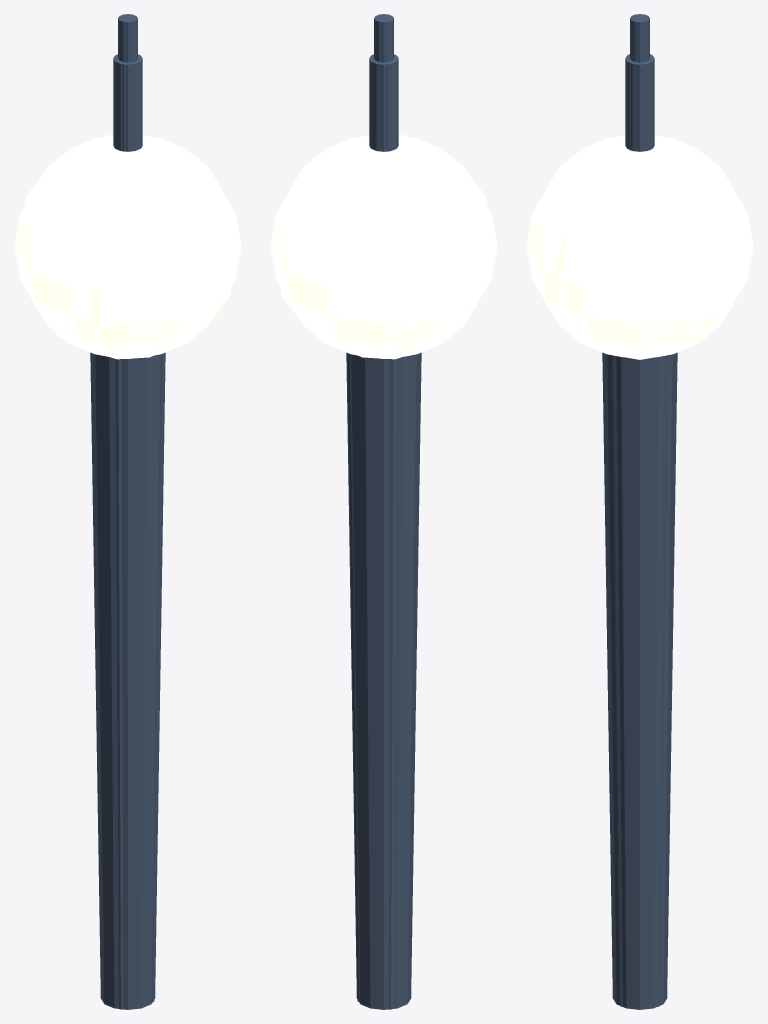
File: prp_lantern_market_a.glb
The picture shows the model from 3 angles, left to right: view 1: azimuth 30°, elevation 25°; view 2: azimuth 150°, elevation 25°; view 3: azimuth 270°, elevation 25°; orthographic projection.
Parts seen in each view (by area): view 1: lod0__lantern_stem, lod0__lantern_bulb, lod1__lantern_stem, lod1__lantern_bulb, lod0__lantern_hanger, lod0__lantern_hook; view 2: lod0__lantern_stem, lod0__lantern_bulb, lod1__lantern_stem, lod1__lantern_bulb, lod0__lantern_hanger, lod0__lantern_hook; view 3: lod0__lantern_stem, lod0__lantern_bulb, lod1__lantern_stem, lod1__lantern_bulb, lod0__lantern_hanger, lod0__lantern_hook.
Boxes of the visible parts, bbox=[...] form: lod0__lantern_stem: bbox=[90, 352, 165, 1009]; lod0__lantern_bulb: bbox=[14, 135, 241, 358]; lod1__lantern_stem: bbox=[115, 353, 164, 1009]; lod1__lantern_bulb: bbox=[24, 135, 237, 359]; lod0__lantern_hanger: bbox=[113, 54, 142, 151]; lod0__lantern_hook: bbox=[118, 14, 137, 62]; lod0__lantern_stem: bbox=[346, 352, 421, 1009]; lod0__lantern_bulb: bbox=[270, 135, 497, 358]; lod1__lantern_stem: bbox=[347, 353, 396, 1009]; lod1__lantern_bulb: bbox=[274, 135, 487, 359]; lod0__lantern_hanger: bbox=[369, 54, 398, 151]; lod0__lantern_hook: bbox=[374, 14, 393, 62]; lod0__lantern_stem: bbox=[602, 352, 677, 1009]; lod0__lantern_bulb: bbox=[526, 135, 753, 358]; lod1__lantern_stem: bbox=[612, 355, 667, 1006]; lod1__lantern_bulb: bbox=[534, 137, 745, 359]; lod0__lantern_hanger: bbox=[625, 54, 654, 151]; lod0__lantern_hook: bbox=[630, 14, 649, 62].
Size of the model in its own units: 0.46 by 2.19 by 0.46.
